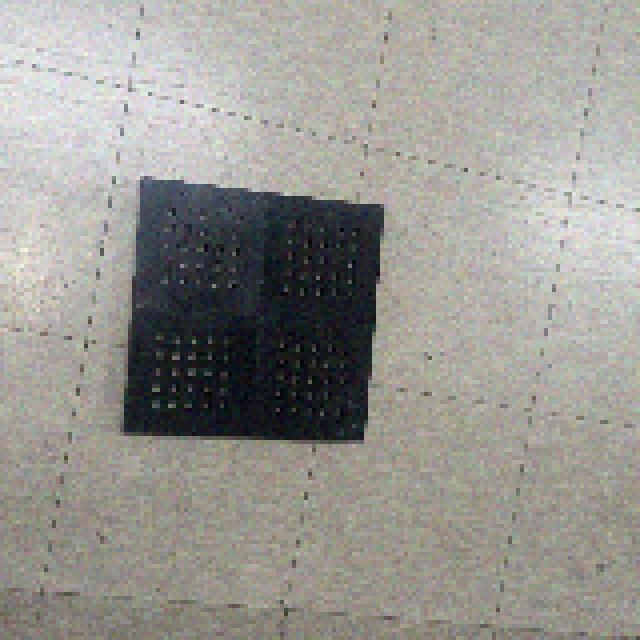pallet: (118, 168, 388, 446)
